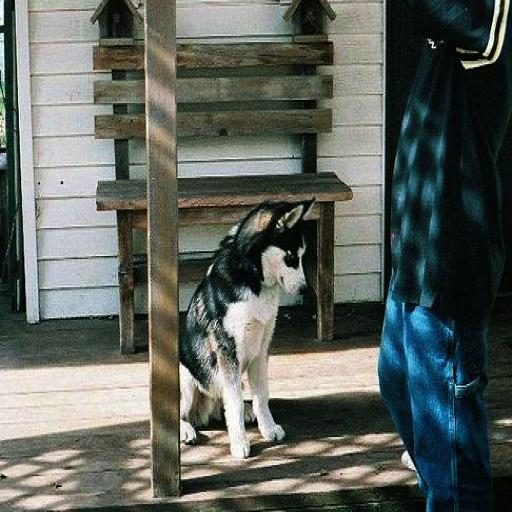dog_face: (258, 205, 312, 298)
